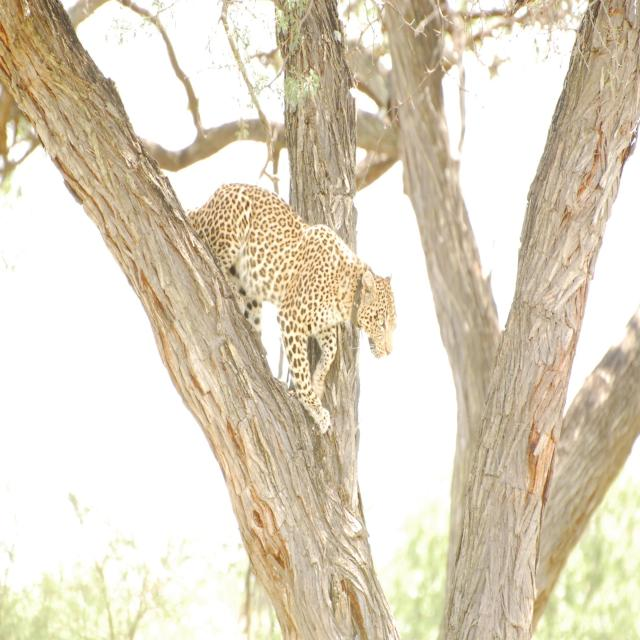Leopard: (174, 173, 403, 435)
